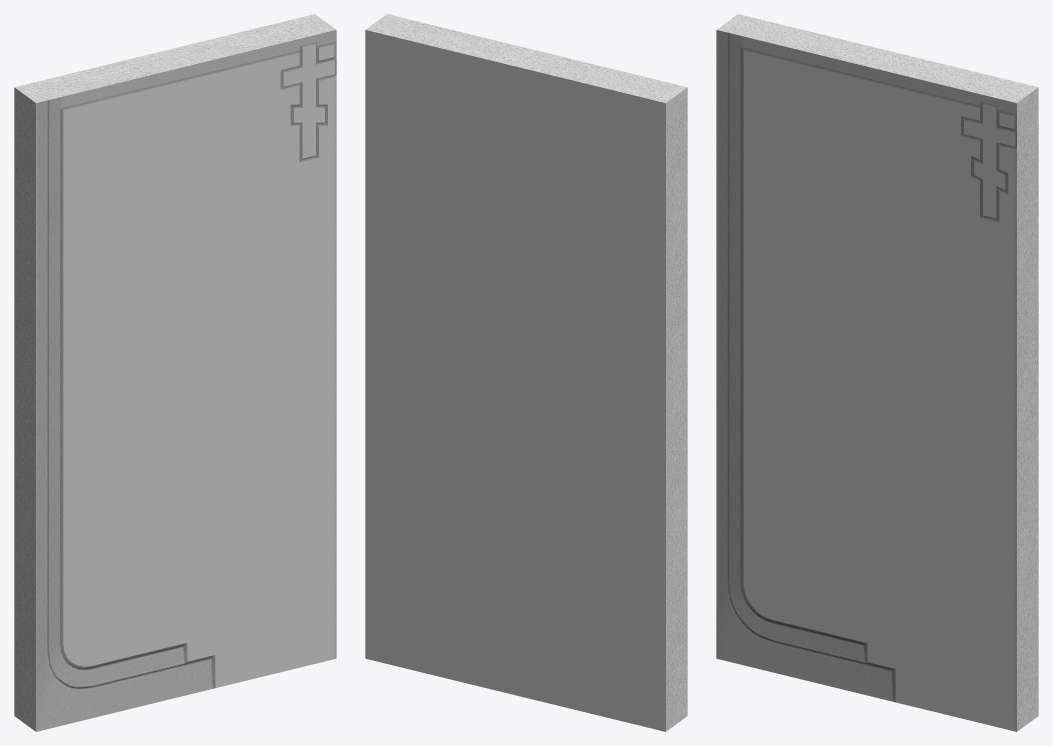
Rendered from cn0ff956255d_tkf.glb.
The picture shows the model from 3 angles, left to right: view 1: azimuth 30°, elevation 25°; view 2: azimuth 150°, elevation 25°; view 3: azimuth 330°, elevation 25°; orthographic projection.
Visible parts, largest first — view 1: Pam-d03-138, Pam-d03-138_2_notexture; view 2: Pam-d03-138, Pam-d03-138_2_notexture; view 3: Pam-d03-138, Pam-d03-138_2_notexture.
Part boxes in pixels (x1,y1,x2,y2): Pam-d03-138: [63, 44, 334, 687]; Pam-d03-138_2_notexture: [14, 14, 336, 731]; Pam-d03-138: [365, 30, 665, 731]; Pam-d03-138_2_notexture: [365, 14, 687, 731]; Pam-d03-138: [743, 50, 1015, 731]; Pam-d03-138_2_notexture: [716, 14, 1038, 731].
Bounding box in the file's own units: 0.4 × 0.8 × 0.05.
1 material, 1 textured.
